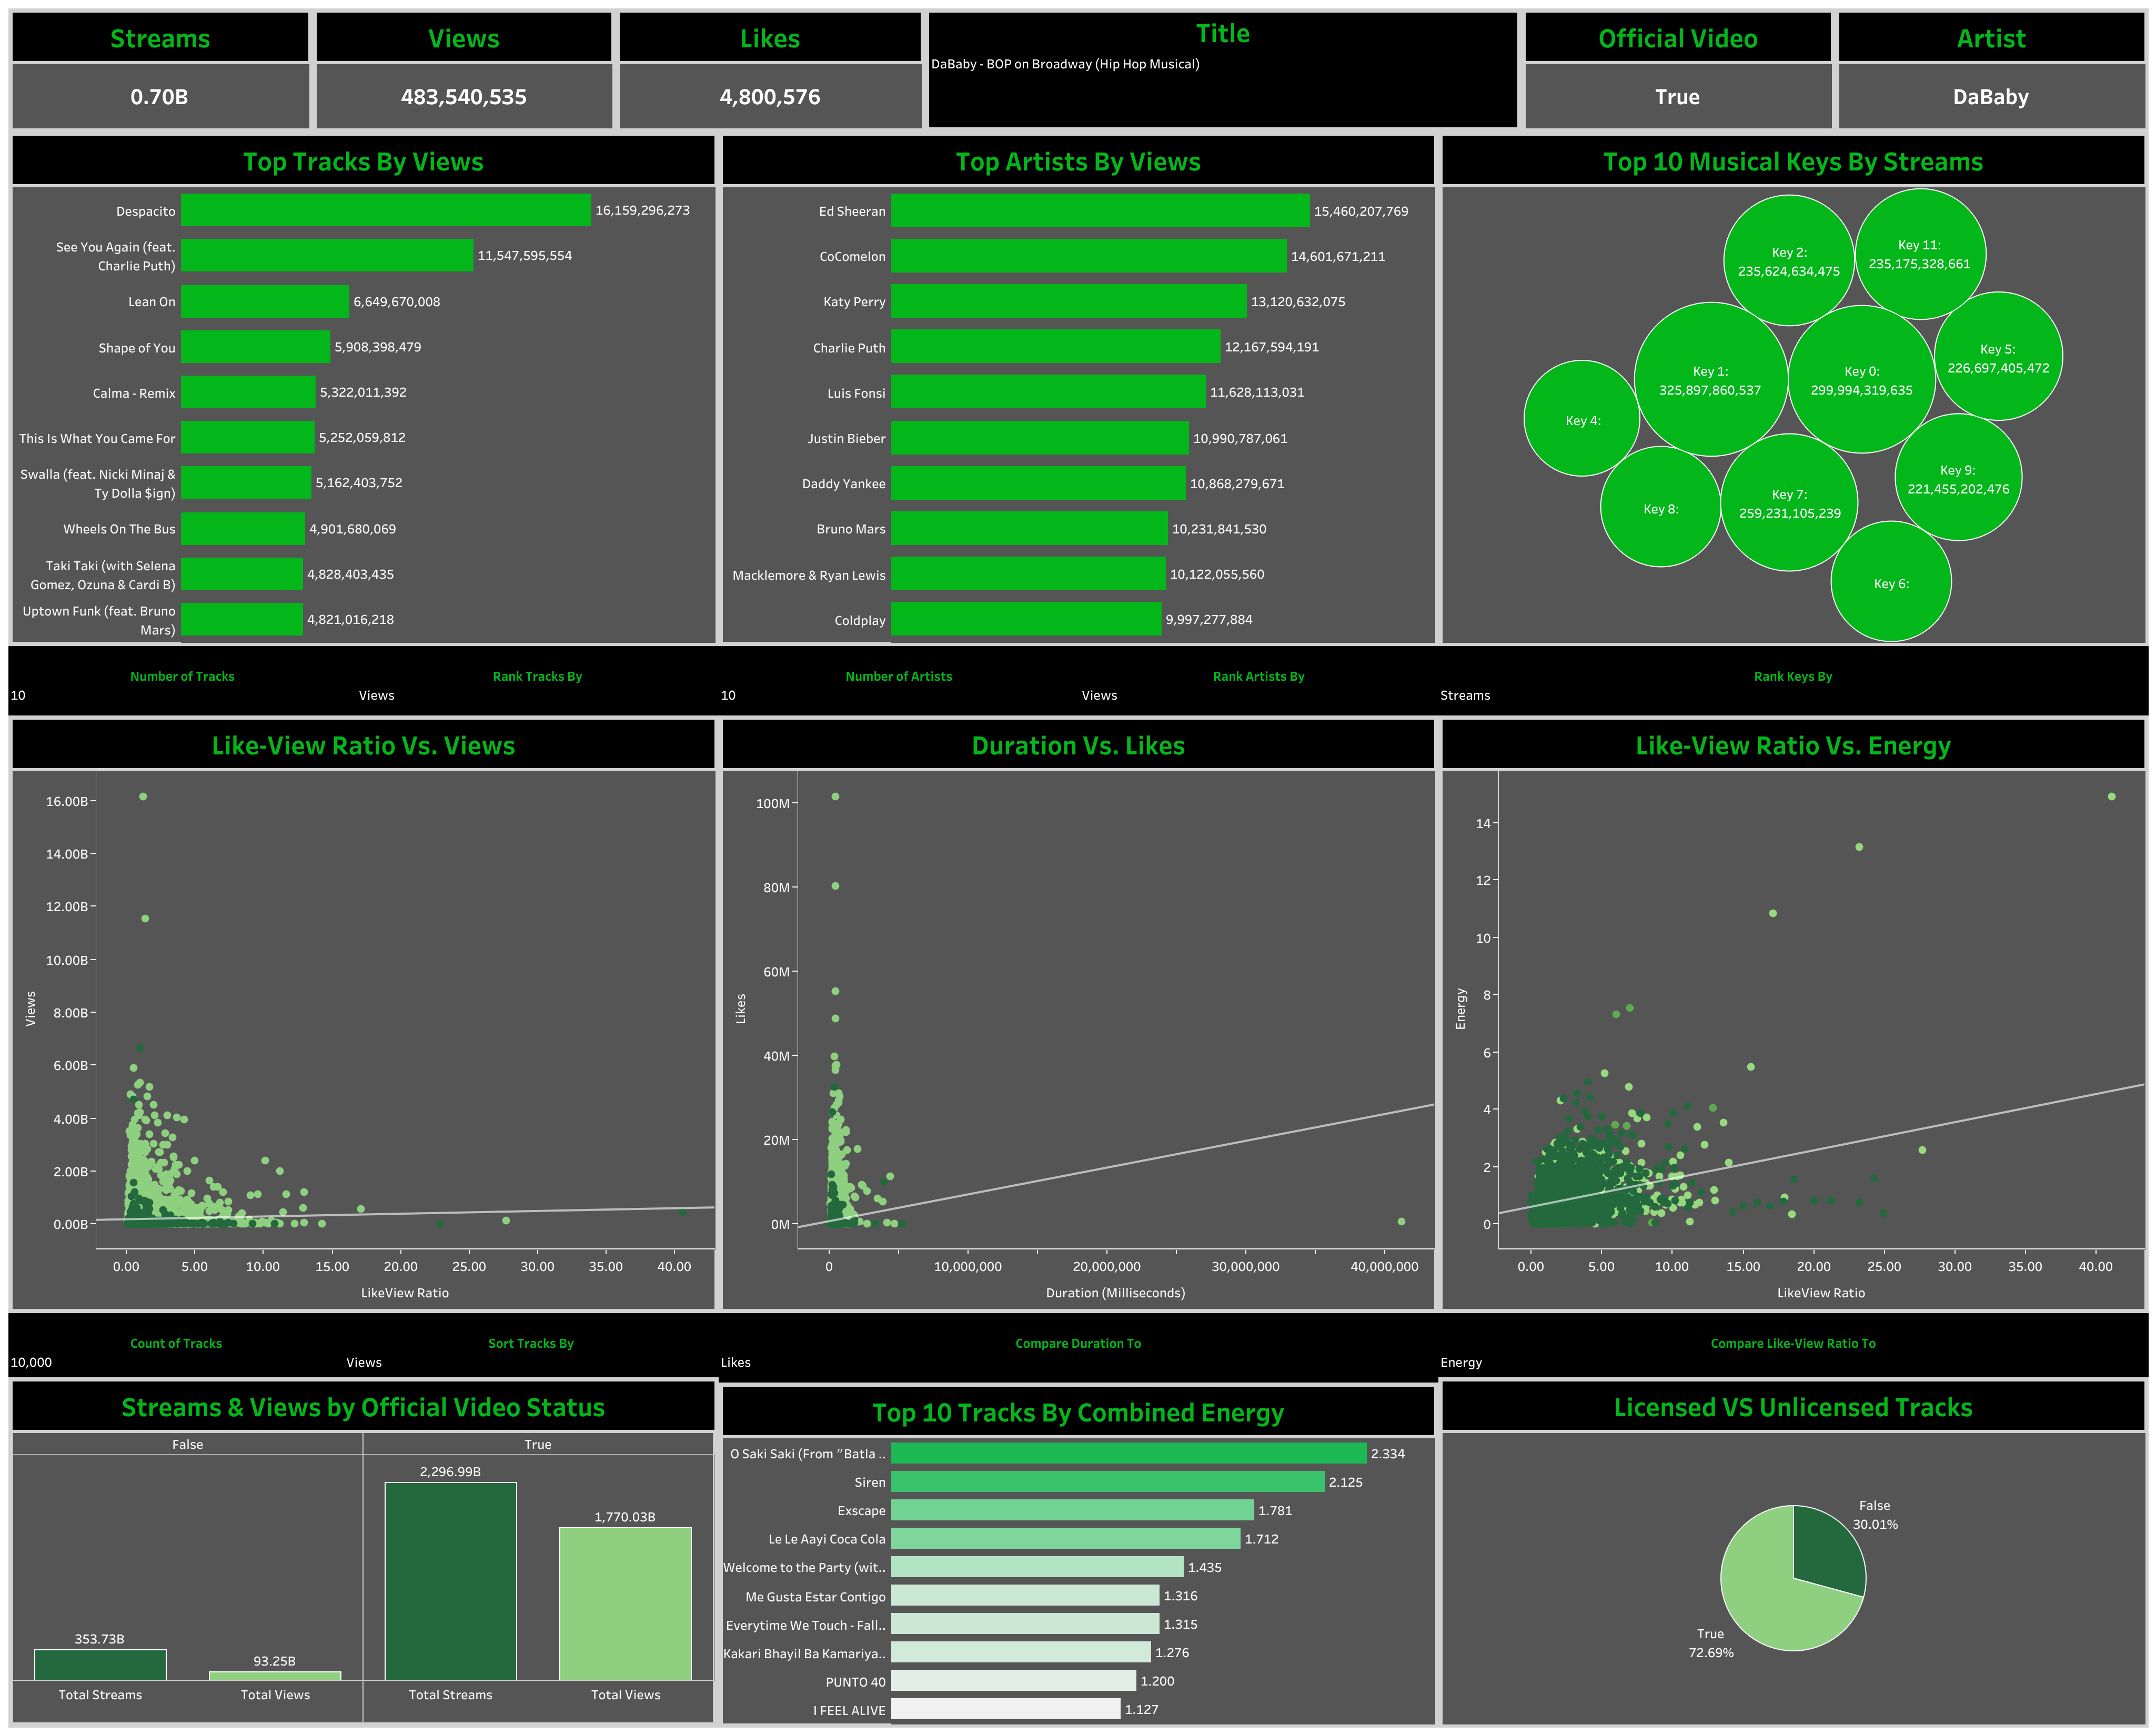

Layout of this report page (visuals, bound fields, positions):
{"tool":"tableau","page":{"name":"SpotifyDash","canvas":[2050,1650],"ordinal":0},"visuals":[{"type":"worksheet","title":"Total Streams","mark":"Automatic","box":[8,8,337.5,116.9]},{"type":"worksheet","title":"Total Views","mark":"Automatic","box":[345.4,8,337.5,116.9]},{"type":"worksheet","title":"Total Likes","mark":"Automatic","box":[682.9,8,294,116.9]},{"type":"filter","title":"Total Artists","param":"[federated.1w18ulv10eviks11xka9a0k4ctp1].[none:Title:nk]","box":[976.9,8,395,116.9]},{"type":"worksheet","title":"Video","mark":"Automatic","box":[1371.9,8,335.1,116.9]},{"type":"worksheet","title":"Total Artists","mark":"Automatic","box":[1706.9,8,335.1,116.9]},{"type":"worksheet","title":"Top Tracks","mark":"Automatic","rows":["Track"],"cols":["Metric Value (copy)_2990882779916607493"],"box":[8,124.9,675,489]},{"type":"worksheet","title":"Top Artists","mark":"Automatic","rows":["Artist"],"cols":["Metric Value (copy) (copy)_5637169773485301761"],"box":[683,124.9,684,489]},{"type":"worksheet","title":"Top Musical Keys","mark":"Circle","box":[1367,124.9,675,489]},{"type":"parameter","param":"[Parameters].[Parameter 2]","box":[8,613.9,331.1,66]},{"type":"parameter","param":"[Parameters].[Parameter 3]","box":[339.1,613.9,343.9,66]},{"type":"parameter","param":"[Parameters].[Parameter 5]","box":[683,613.9,342.9,66]},{"type":"parameter","param":"[Parameters].[Rank Tracks By (copy)_2990882779916378116]","box":[1025.9,613.9,340.8,66]},{"type":"parameter","param":"[Parameters].[Rank Artists By  (copy)_1290492445636902912]","box":[1366.6,613.9,675.4,66]},{"type":"worksheet","title":"Like-View Ratio","mark":"Circle","rows":["Calculation_2990882779912142851"],"cols":["LikeView_Ratio"],"box":[8,679.9,675,568.1]},{"type":"worksheet","title":"Duration","mark":"Circle","rows":["Selected Feature (copy)_1290492445644128258"],"cols":["Duration_ms"],"box":[683,679.9,683.5,568.1]},{"type":"worksheet","title":"Like-View Ratio Vs. Sound","mark":"Circle","rows":["Calculation_2990882779905376256"],"cols":["LikeView_Ratio"],"box":[1366.5,679.9,675.5,568.1]},{"type":"parameter","param":"[Parameters].[Parameter 4]","box":[8,1248,318.5,61]},{"type":"parameter","param":"[Parameters].[Rank Tracks By (copy)_3922213109149450240]","box":[326.5,1248,356.5,61]},{"type":"parameter","param":"[Parameters].[Parameter 6]","box":[683,1248,683.6,61]},{"type":"parameter","param":"[Parameters].[Slider (copy)]","box":[1366.6,1248,675.4,61]},{"type":"worksheet","title":"Streams & Views by Official Video Status","mark":"Automatic","cols":["official_video"],"box":[8,1309,675,333]},{"type":"worksheet","title":"Top Tracks By Combined Energy","mark":"Automatic","rows":["Track"],"cols":["Calculation_5603392776183119873"],"box":[683,1309,683.6,333]},{"type":"worksheet","title":"Licensed Vs. Unlicensed Tracks","mark":"Pie","box":[1366.6,1309,675.4,333]}]}

Visuals, with their boxes in screenshot pixels (x1, y1, x2, y2), scaled from the page's 2050x1650 canvas onto the 2156x1735 screenshot:
"Total Streams" worksheet: x1=8 y1=8 x2=364 y2=132
"Total Views" worksheet: x1=363 y1=8 x2=718 y2=132
"Total Likes" worksheet: x1=718 y1=8 x2=1027 y2=132
"Total Artists" filter: x1=1027 y1=8 x2=1443 y2=132
"Video" worksheet: x1=1443 y1=8 x2=1795 y2=132
"Total Artists" worksheet: x1=1795 y1=8 x2=2148 y2=132
"Top Tracks" worksheet: x1=8 y1=132 x2=718 y2=645
"Top Artists" worksheet: x1=718 y1=132 x2=1438 y2=645
"Top Musical Keys" worksheet (Circle marks): x1=1438 y1=132 x2=2148 y2=645
parameter: x1=8 y1=645 x2=357 y2=715
parameter: x1=357 y1=645 x2=718 y2=715
parameter: x1=718 y1=645 x2=1079 y2=715
parameter: x1=1079 y1=645 x2=1437 y2=715
parameter: x1=1437 y1=645 x2=2148 y2=715
"Like-View Ratio" worksheet (Circle marks): x1=8 y1=715 x2=718 y2=1312
"Duration" worksheet (Circle marks): x1=718 y1=715 x2=1437 y2=1312
"Like-View Ratio Vs. Sound" worksheet (Circle marks): x1=1437 y1=715 x2=2148 y2=1312
parameter: x1=8 y1=1312 x2=344 y2=1376
parameter: x1=344 y1=1312 x2=718 y2=1376
parameter: x1=718 y1=1312 x2=1437 y2=1376
parameter: x1=1437 y1=1312 x2=2148 y2=1376
"Streams & Views by Official Video Status" worksheet: x1=8 y1=1376 x2=718 y2=1727
"Top Tracks By Combined Energy" worksheet: x1=718 y1=1376 x2=1437 y2=1727
"Licensed Vs. Unlicensed Tracks" worksheet (Pie marks): x1=1437 y1=1376 x2=2148 y2=1727
